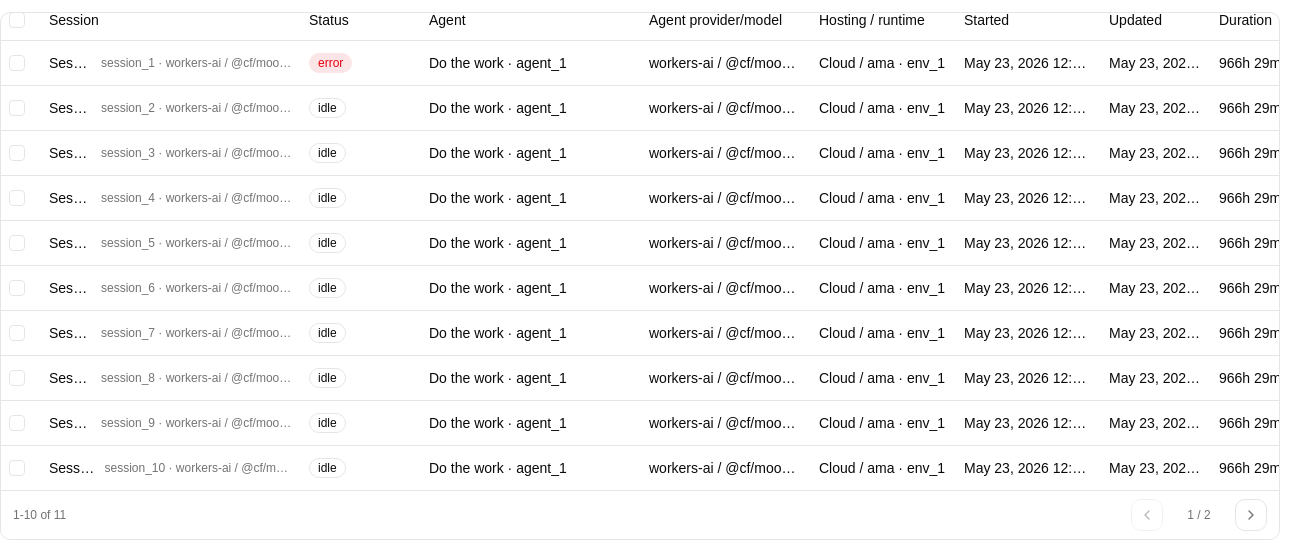
Test: [spec: sessions/console-detail] [spec: sessions/console-transcript] sessions UI contracts › keeps error status detail off the table row while preserving pagination and adaptive surface
This screenshot has width=1292, height=557.
(page scrolled)
Check: the text "1-10 of 11" is shown, box [13,507,66,523]
Click the button named "Next page". click: {"x": 1251, "y": 515}
box: [1235,499,1267,531]
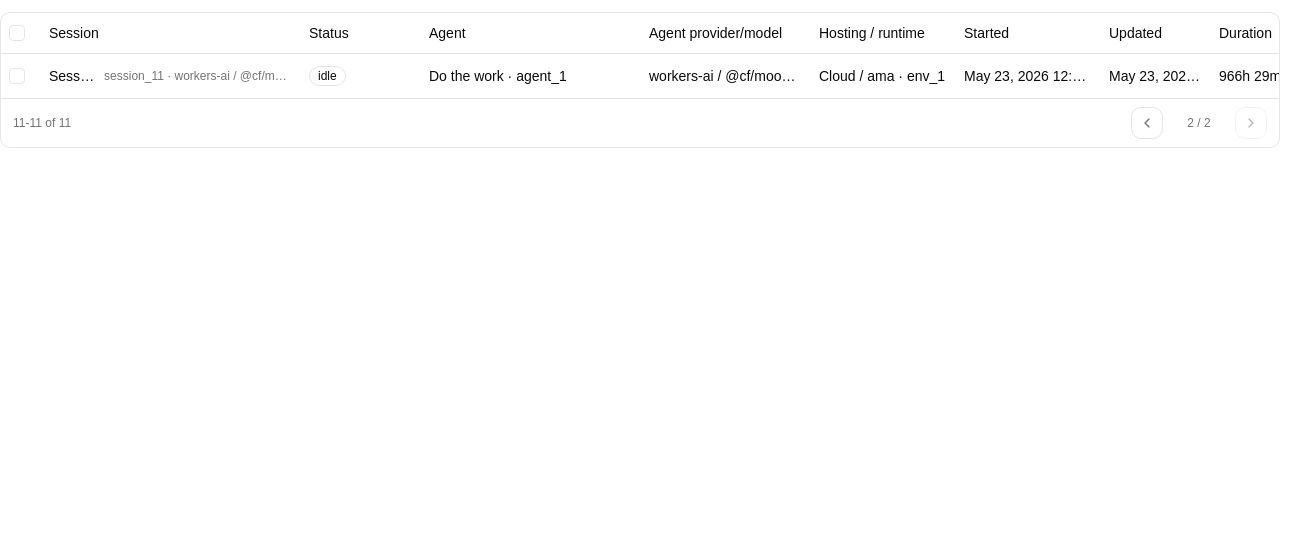
Check: the text "11-11 of 11" is shown, box [13,114,71,130]
Check: the link "Session 11" is shown, box [49,66,96,86]
